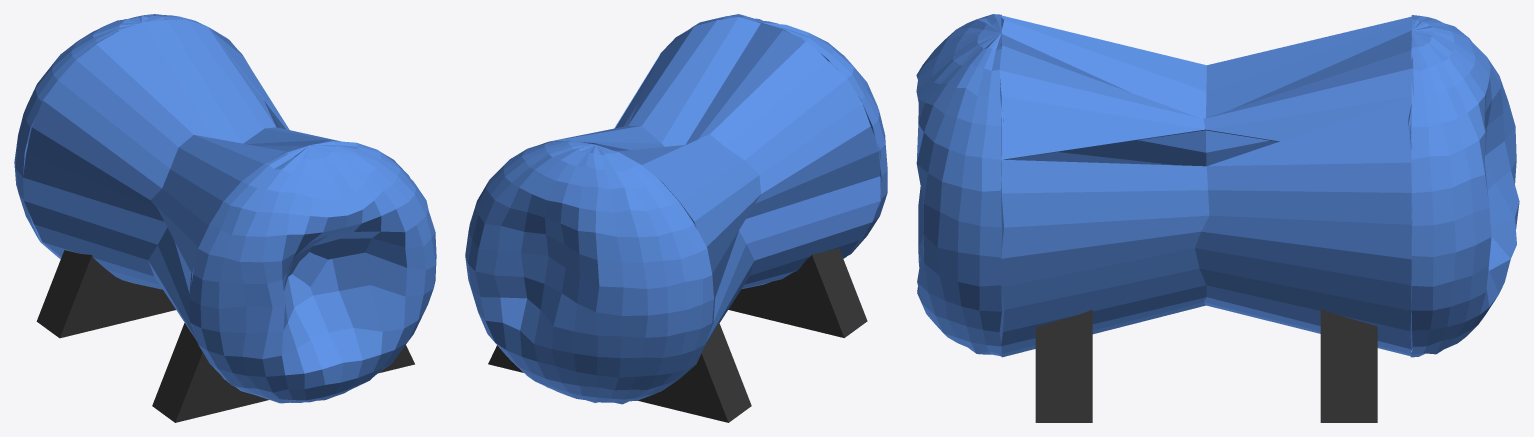
Rendered from FualTankDestoryed.fbx.
3 renders of one model, left to right at view 1: azimuth 30°, elevation 25°; view 2: azimuth 150°, elevation 25°; view 3: azimuth 270°, elevation 25°, orthographic. The views are drawn at different scales.
Visible parts, largest first — view 1: Cylinder, Sphere.001, Cube, Cube.001, Sphere; view 2: Sphere, Cylinder, Cube.001, Cube, Sphere.001; view 3: Cylinder, Sphere, Sphere.001, Cube, Cube.001.
Boxes of the visible parts, x1,y1,x2,y2 form: Cylinder: [23, 19, 409, 379]; Sphere.001: [189, 141, 436, 403]; Cube: [36, 250, 175, 338]; Cube.001: [152, 323, 414, 422]; Sphere: [14, 14, 247, 259]; Sphere: [465, 140, 713, 404]; Cylinder: [511, 17, 880, 391]; Cube.001: [728, 248, 867, 337]; Cube: [488, 323, 751, 422]; Sphere.001: [691, 14, 887, 255]; Cylinder: [999, 15, 1414, 357]; Sphere: [1410, 15, 1519, 357]; Sphere.001: [916, 14, 1001, 356]; Cube: [1320, 309, 1377, 422]; Cube.001: [1035, 309, 1092, 422].
Size of the model in its own units: 301 by 310 by 529.
